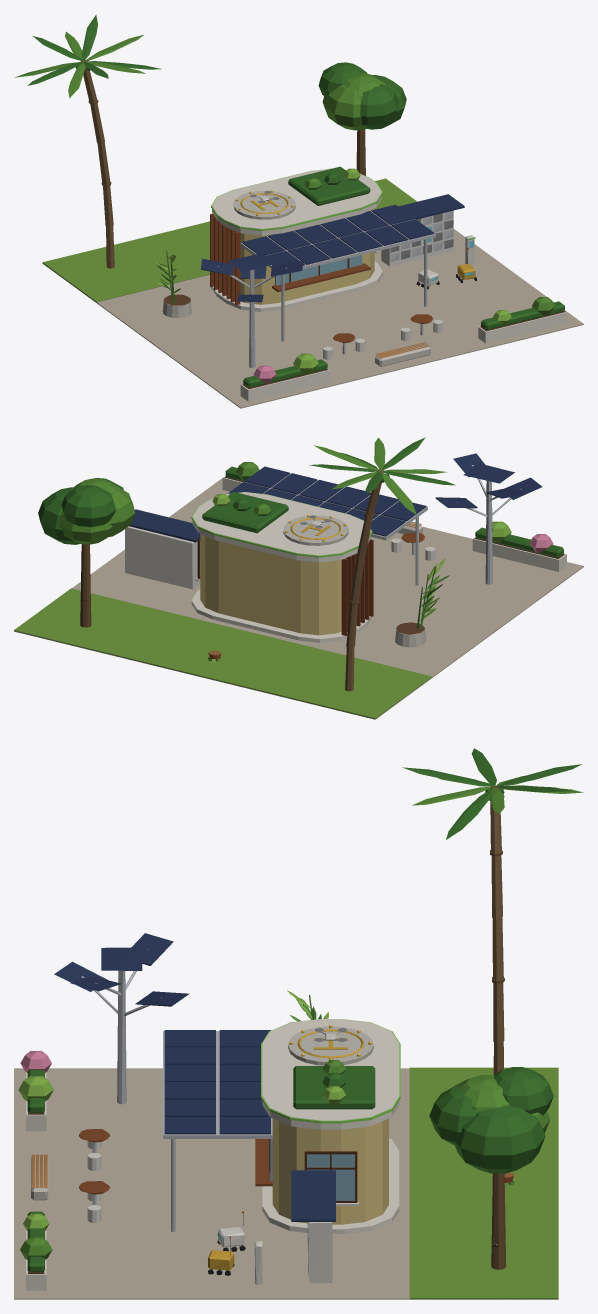
Rendered from shop_1.glb.
3 renders of one model, top to bottom at view 1: azimuth 30°, elevation 25°; view 2: azimuth 150°, elevation 25°; view 3: azimuth 270°, elevation 25°, orthographic. The views are drawn at different scales.
Parts seen in each view (by area): view 1: body, windows; view 2: body, windows; view 3: body, windows.
Part boxes in pixels (x1,y1,x2,y2): body: (15,14,583,408); windows: (211,168,475,281); body: (14,437,583,719); windows: (191,492,372,557); body: (14,748,583,1299); windows: (207,1019,400,1259).
Size of the model in its own units: 18.03 by 10.54 by 16.64.
